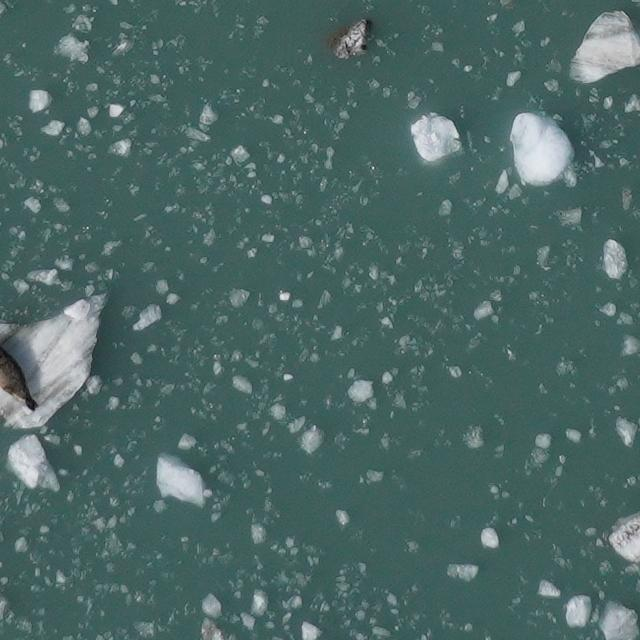seal: (0, 340, 42, 414)
